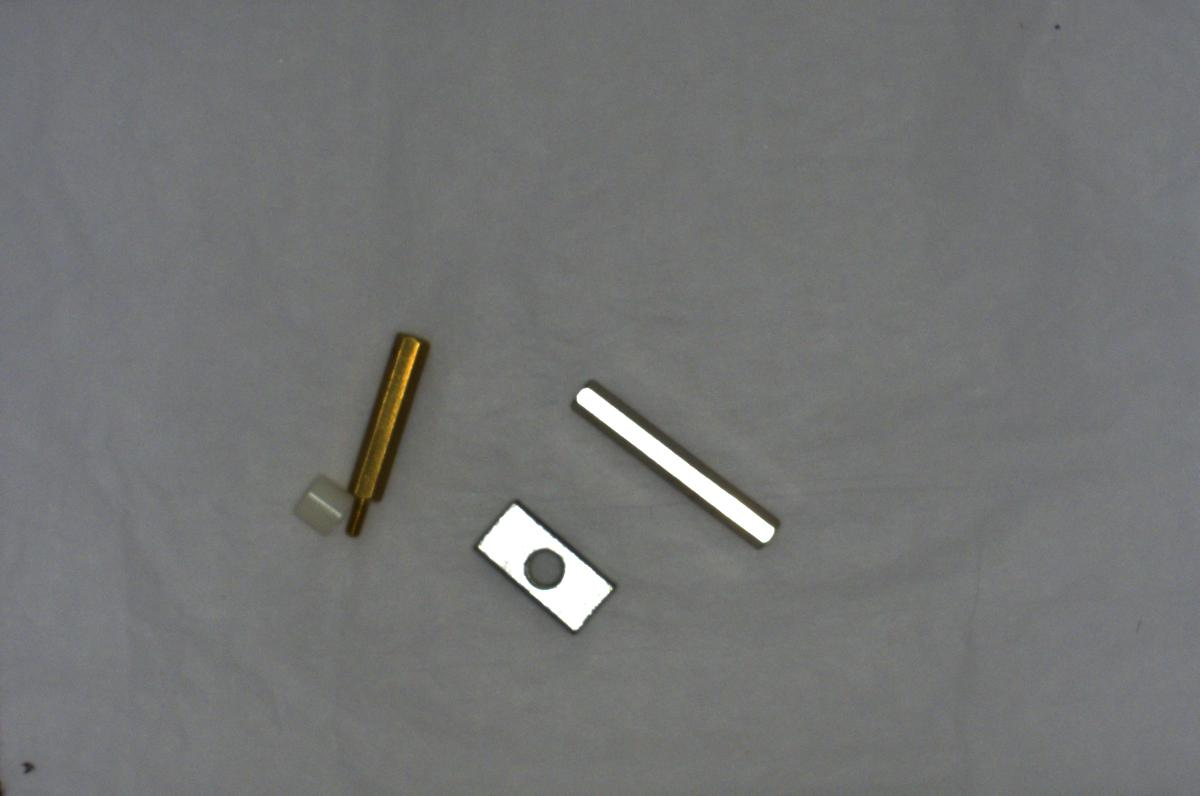Double hexagonal column: (561, 372, 785, 549)
Hexagon pillar: (339, 336, 428, 545)
Plastic cushion pillar: (279, 469, 367, 542)
Rectangular nut: (466, 498, 620, 635)
